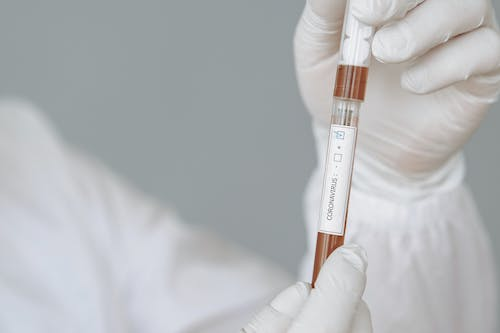blood: (311, 231, 348, 289)
